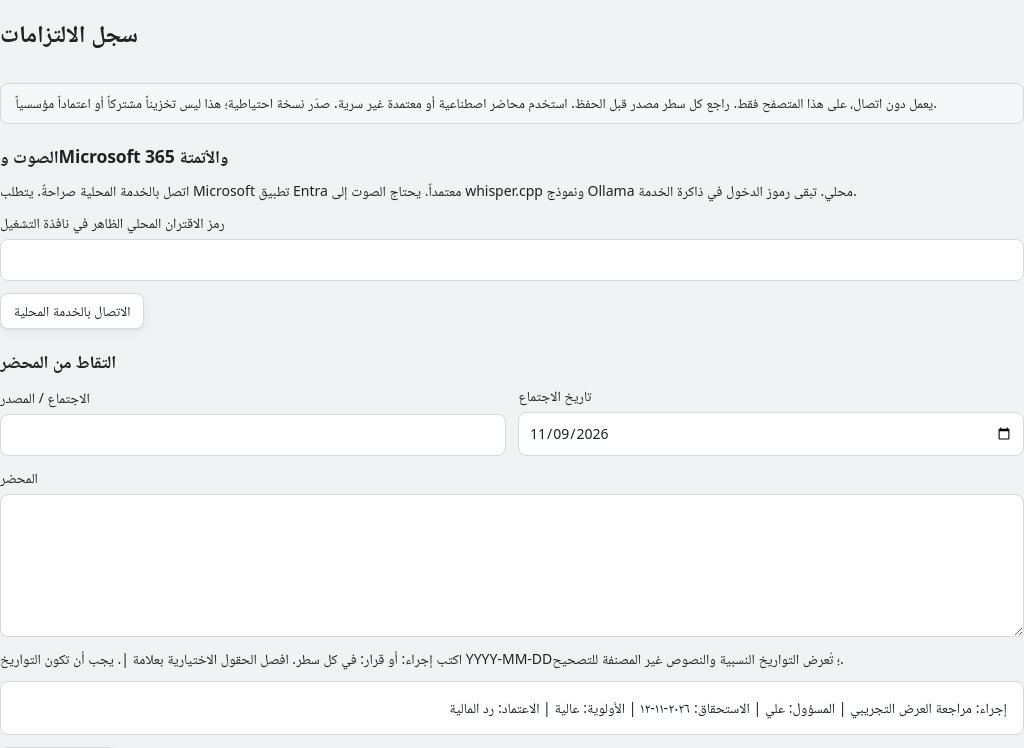
Test case: renders Arabic capture and unknown fields without transliterating source text
Type "اجتماع تجريبي" into the field labelled "الاجتماع / المصدر" at (253, 435), box x1=0 y1=414 x2=506 y2=456
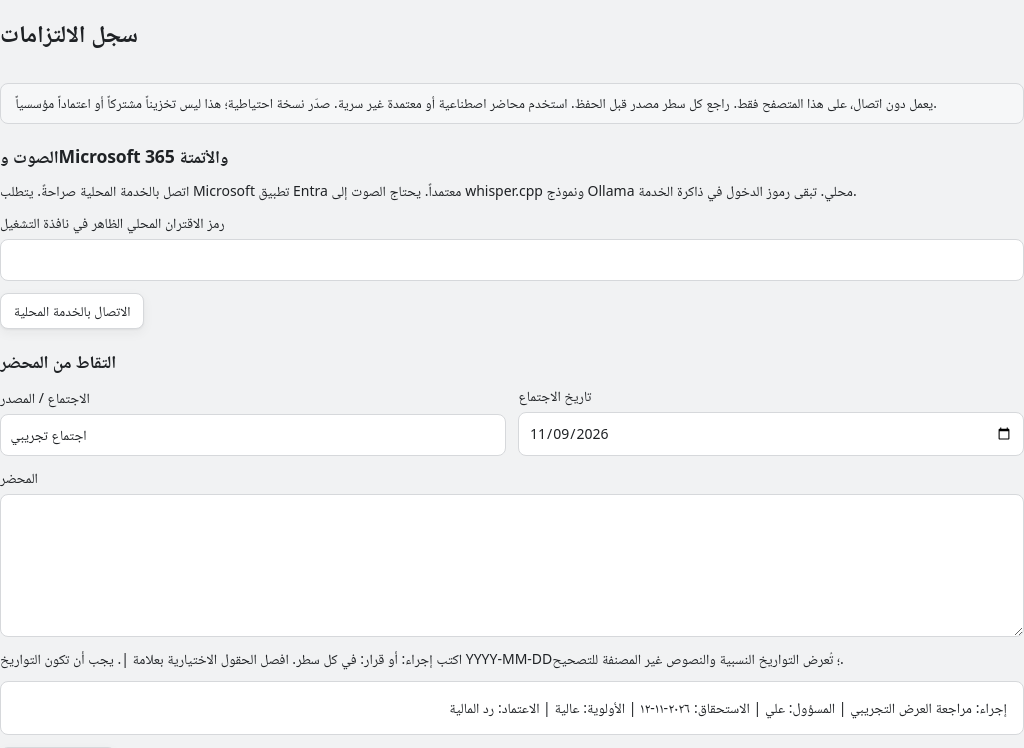
Type "إجراء: مراجعة العرض" into the text box labelled "المحضر" at (512, 565), box x1=0 y1=494 x2=1023 y2=637
(page scrolled)
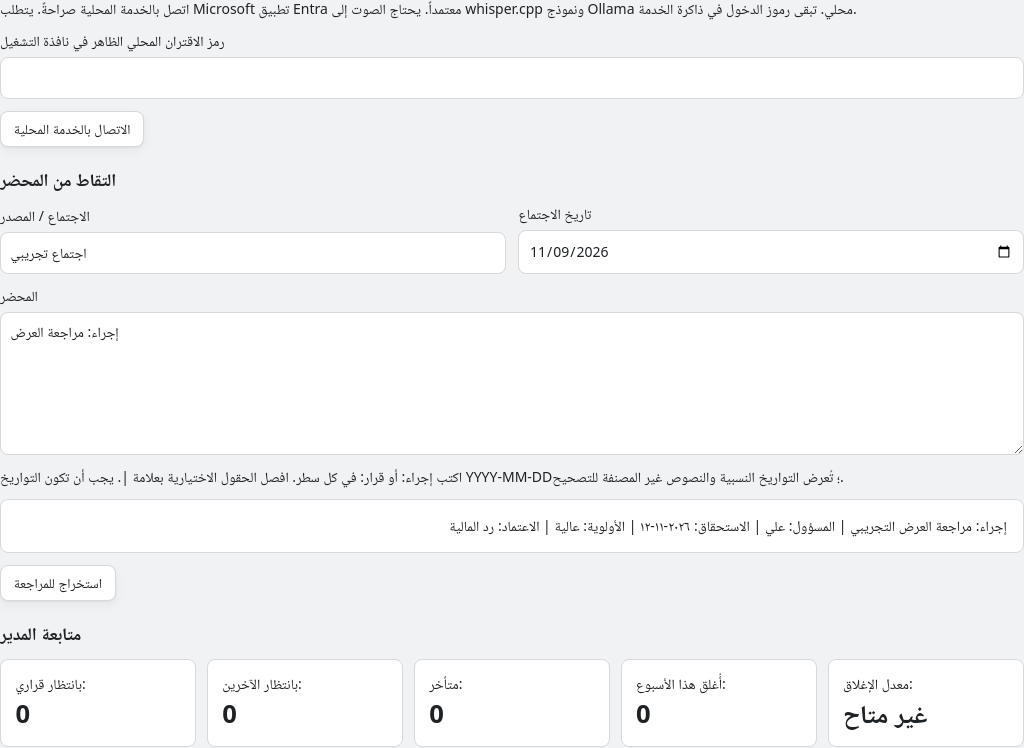
Submit the form named "استخراج للمراجعة", box x1=0 y1=167 x2=1023 y2=601
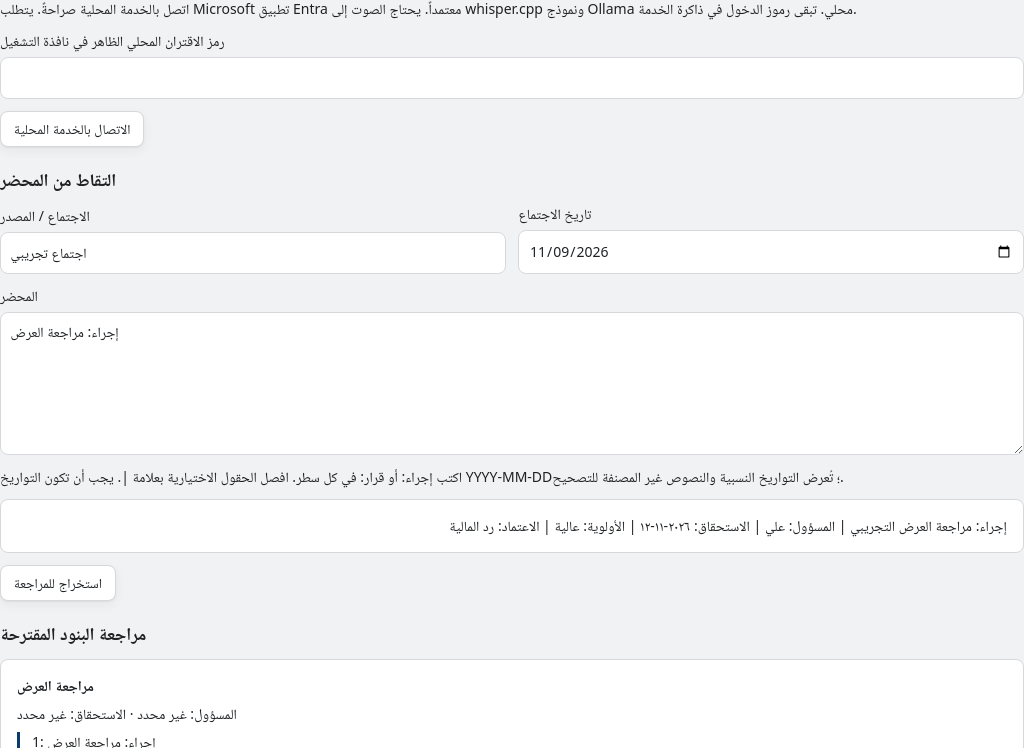
Check: the text "مراجعة العرض" is shown, box x1=17 y1=676 x2=94 y2=695
Check: the text "المسؤول: غير محدد · الاستحقاق: غير محدد" is shown, box x1=17 y1=704 x2=237 y2=723
